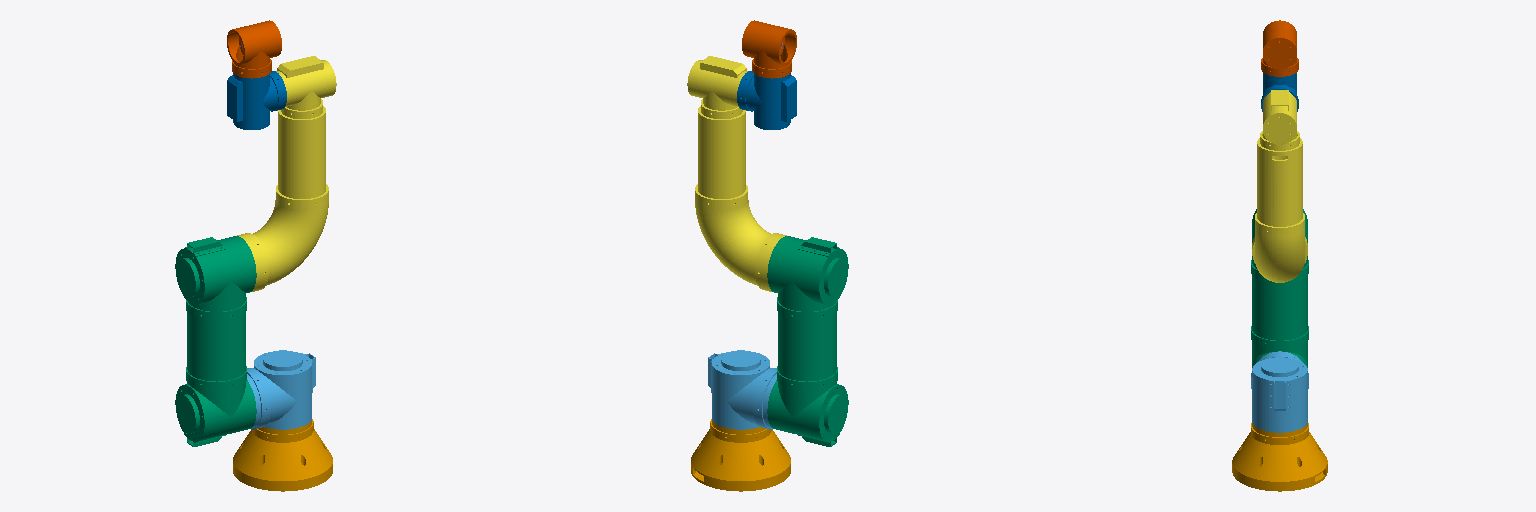
The robot description file, URDF, robot "Arm":
<?xml version='1.0' encoding='utf-8'?>
<robot name="Arm">
    <link name="Base_Joint">
        <inertial>
            <origin xyz="-0.0003310449128054492 -0.0003765223630645357 0.02921561322874342" rpy="0.0 0.0 0.0" />
            <mass value="3.7912246321328436" />
            <inertia ixx="0.016718197729505356" iyy="0.016773295996113366" izz="0.015482147635597354" ixy="6.13173006759159e-05" iyz="-5.455400244430662e-05" ixz="-8.481328123311252e-06" />
        </inertial>
        <visual name="Base_Joint_visual">
            <origin xyz="0.0 0.0 0.0" rpy="0.0 0.0 0.0" />
            <geometry>
                <mesh filename="meshes/Base_Joint.stl" scale="0.001 0.001 0.001" />
            </geometry>
        </visual>
        <collision name="Base_Joint_collision">
            <origin xyz="0.0 0.0 0.0" rpy="0.0 0.0 0.0" />
            <geometry>
                <mesh filename="meshes/Base_Joint.stl" scale="0.001 0.001 0.001" />
            </geometry>
        </collision>
    </link>
    <link name="Joint_1">
        <inertial>
            <origin xyz="-0.019370483087286103 2.0092341870242748e-09 -0.011769686194449172" rpy="0.0 -0.0 0.0" />
            <mass value="4.871605999709224" />
            <inertia ixx="0.007494196559477778" iyy="0.015588399369424633" izz="0.01573505373957174" ixy="4.70430484746284e-10" iyz="2.1070304575512857e-08" ixz="-0.00209039905770324" />
        </inertial>
        <visual name="Joint_1_visual">
            <origin xyz="1.8135215551495786e-16 -3.114430069089761e-18 -0.020600000000000344" rpy="-1.2246467991473535e-16 -1.5707963267948966 0" />
            <geometry>
                <mesh filename="meshes/Joint_1.stl" scale="0.001 0.001 0.001" />
            </geometry>
        </visual>
        <collision name="Joint_1_collision">
            <origin xyz="1.8135215551495786e-16 -3.114430069089761e-18 -0.020600000000000344" rpy="-1.2246467991473535e-16 -1.5707963267948966 0" />
            <geometry>
                <mesh filename="meshes/Joint_1.stl" scale="0.001 0.001 0.001" />
            </geometry>
        </collision>
    </link>
    <link name="Joint_2">
        <inertial>
            <origin xyz="0.010537536455476974 2.720572263632458e-10 0.13499998658848616" rpy="0.0 -0.0 0.0" />
            <mass value="9.284439575553945" />
            <inertia ixx="0.16097095897633706" iyy="0.16045670355679564" izz="0.015982867468748385" ixy="1.0369654867973318e-09" iyz="6.6249550612886284e-09" ixz="-2.3443206000426166e-09" />
        </inertial>
        <visual name="Joint_2_visual">
            <origin xyz="0.020499999999999137 8.101913789418598e-17 -3.375077994860476e-16" rpy="-3.141592653589793 4.16333634234497e-17 3.141592653589793" />
            <geometry>
                <mesh filename="meshes/Joint_2.stl" scale="0.001 0.001 0.001" />
            </geometry>
        </visual>
        <collision name="Joint_2_collision">
            <origin xyz="0.020499999999999137 8.101913789418598e-17 -3.375077994860476e-16" rpy="-3.141592653589793 4.16333634234497e-17 3.141592653589793" />
            <geometry>
                <mesh filename="meshes/Joint_2.stl" scale="0.001 0.001 0.001" />
            </geometry>
        </collision>
    </link>
    <link name="Joint_3">
        <inertial>
            <origin xyz="0.15442154453527984 -6.253155530411521e-08 0.15540372485759635" rpy="3.0385816786431356e-64 -0.0 0.0" />
            <mass value="6.934631122481834" />
            <inertia ixx="0.029728037669338132" iyy="0.14670435561028405" izz="0.12713688200449358" ixy="6.774462395267321e-09" iyz="2.0078632407245e-08" ixz="-0.03492075589757402" />
        </inertial>
        <visual name="Joint_3_visual">
            <origin xyz="-3.552713678800501e-16 -6.863216838266077e-17 -0.008200000000001992" rpy="3.141592653589793 1.5707963267948961 0" />
            <geometry>
                <mesh filename="meshes/Joint_3.stl" scale="0.001 0.001 0.001" />
            </geometry>
        </visual>
        <collision name="Joint_3_collision">
            <origin xyz="-3.552713678800501e-16 -6.863216838266077e-17 -0.008200000000001992" rpy="3.141592653589793 1.5707963267948961 0" />
            <geometry>
                <mesh filename="meshes/Joint_3.stl" scale="0.001 0.001 0.001" />
            </geometry>
        </collision>
    </link>
    <link name="Joint_4">
        <inertial>
            <origin xyz="-0.009960372227295693 -3.640367212779921e-08 0.0806268061978858" rpy="6.0771633572862685e-64 -0.0 0.0" />
            <mass value="2.218185155323223" />
            <inertia ixx="0.004980923698500449" iyy="0.005739371341262567" izz="0.0022415081771851586" ixy="-3.431824743601439e-10" iyz="-1.448982043706971e-09" ixz="0.0004792498057122885" />
        </inertial>
        <visual name="Joint_4_visual">
            <origin xyz="-0.7555 2.0953285269679403e-16 0.03600000000000129" rpy="1.224646799147345e-16 1.5707963267948961 0" />
            <geometry>
                <mesh filename="meshes/Joint_4.stl" scale="0.001 0.001 0.001" />
            </geometry>
        </visual>
        <collision name="Joint_4_collision">
            <origin xyz="-0.7555 2.0953285269679403e-16 0.03600000000000129" rpy="1.224646799147345e-16 1.5707963267948961 0" />
            <geometry>
                <mesh filename="meshes/Joint_4.stl" scale="0.001 0.001 0.001" />
            </geometry>
        </collision>
    </link>
    <link name="Joint_5">
        <inertial>
            <origin xyz="0.00979824184275059 1.2300669529823857e-06 -0.07674757335672397" rpy="0.0 -6.842277657836021e-49 2.115572867540339e-49" />
            <mass value="1.9556605864311027" />
            <inertia ixx="0.004458540128476685" iyy="0.004604512913203074" izz="0.0014133128346417983" ixy="2.3673460944059967e-08" iyz="-2.1275621312016e-08" ixz="0.0004887708448359525" />
        </inertial>
        <visual name="Joint_5_visual">
            <origin xyz="-2.815525590449397e-15 -2.2958546744933583e-16 0.05200000000000131" rpy="3.1415926535897647 9.574587059051675e-17 -1.5707963267948957" />
            <geometry>
                <mesh filename="meshes/Joint_5.stl" scale="0.001 0.001 0.001" />
            </geometry>
        </visual>
        <collision name="Joint_5_collision">
            <origin xyz="-2.815525590449397e-15 -2.2958546744933583e-16 0.05200000000000131" rpy="3.1415926535897647 9.574587059051675e-17 -1.5707963267948957" />
            <geometry>
                <mesh filename="meshes/Joint_5.stl" scale="0.001 0.001 0.001" />
            </geometry>
        </collision>
    </link>
    <link name="Joint_6">
        <inertial>
            <origin xyz="-0.013463555247715062 -2.1316282072803005e-15 -2.7730910080955826e-15" rpy="0.0 -2.062701013372598e-47 0.0" />
            <mass value="0.22698446745157766" />
            <inertia ixx="3.880949332754624e-05" iyy="3.31813067655076e-05" izz="3.3181306765550644e-05" ixy="1.7347234759761935e-18" iyz="-3.3806524756398537e-20" ixz="-5.437881366399838e-18" />
        </inertial>
        <visual name="Joint_6_visual">
            <origin xyz="0.025000000000003252 -6.252776074688882e-15 -2.309263891211763e-16" rpy="-1.0831511792289065e-13 -1.57079632679476 0" />
            <geometry>
                <mesh filename="meshes/Joint_6.stl" scale="0.001 0.001 0.001" />
            </geometry>
        </visual>
        <collision name="Joint_6_collision">
            <origin xyz="0.025000000000003252 -6.252776074688882e-15 -2.309263891211763e-16" rpy="-1.0831511792289065e-13 -1.57079632679476 0" />
            <geometry>
                <mesh filename="meshes/Joint_6.stl" scale="0.001 0.001 0.001" />
            </geometry>
        </collision>
    </link>
    <joint name="Base_Joint_Joint1" type="continuous">
        <origin xyz="-2.1371793224034304e-17 5.906294567565221e-81 0.1702" rpy="4.41880098870239e-32 -0.0 -2.76359335206515e-64" />
        <parent link="Base_Joint" />
        <child link="Joint_1" />
        <axis xyz="0.0 4.41880098870239e-32 1.0" />
    </joint>
    <joint name="Joint_1_Joint2" type="continuous">
        <origin xyz="-0.1702 -1.4493667242943834e-33 -0.032799999999999996" rpy="1.2246467991473493e-16 -4.930380657631324e-32 2.1786370924620435e-63" />
        <parent link="Joint_1" />
        <child link="Joint_2" />
        <axis xyz="-1.0 0.0 1.80411241501588e-16" />
    </joint>
    <joint name="Joint_2_Joint3" type="continuous">
        <origin xyz="0.028700000000000028 3.3065463576978445e-17 0.27" rpy="3.141592653589793 -1.5707963267948963 0" />
        <parent link="Joint_2" />
        <child link="Joint_3" />
        <axis xyz="2.465190328815662e-32 2.449293598294708e-16 -1.0" />
    </joint>
    <joint name="Joint_3_Joint4" type="continuous">
        <origin xyz="0.32800000000000007 -4.3719890729560567e-17 0.17850000000000002" rpy="-3.1415926535897927 5.473822126268817e-48 -2.465190328815662e-32" />
        <parent link="Joint_3" />
        <child link="Joint_4" />
        <axis xyz="-2.465190328815662e-32 -2.449293598294709e-16 -1.0" />
    </joint>
    <joint name="Joint_4_Joint5" type="continuous">
        <origin xyz="0.0029999999999999714 2.4860330022691298e-17 0.1015" rpy="-3.1415926535897927 1.5707963267948963 0" />
        <parent link="Joint_4" />
        <child link="Joint_5" />
        <axis xyz="6.162975822039155e-33 3.67394039744207e-16 1.0" />
    </joint>
    <joint name="Joint_5_Revolute-10" type="continuous">
        <origin xyz="0.015000000000002888 -3.7290495034036995e-17 -0.10149999999999992" rpy="-1.57079632679476 1.0477058897466574e-31 2.722983357319059e-31" />
        <parent link="Joint_5" />
        <child link="Joint_6" />
        <axis xyz="1.0 9.860761315262744e-32 -2.4718775496072294e-14" />
    </joint>
</robot>

--- What the picture shows (computed from the rendered views, not written in the file) ---
The picture shows the robot from 3 angles, left to right: view 1: azimuth 30°, elevation 25°; view 2: azimuth 150°, elevation 25°; view 3: azimuth 270°, elevation 25°; orthographic projection.
Robot: Arm — 7 links, 6 joints (6 continuous); root link Base_Joint; default pose: all joints at 0.
Links seen in each view (by area): view 1: Joint_2, Joint_3, Base_Joint, Joint_1, Joint_4, Joint_5; view 2: Joint_2, Joint_3, Base_Joint, Joint_1, Joint_4, Joint_5; view 3: Joint_3, Base_Joint, Joint_2, Joint_1, Joint_5, Joint_4.
Boxes of the visible links, x1,y1,x2,y2 form: Joint_2: (175,236,256,446); Joint_3: (237,56,336,291); Base_Joint: (233,419,332,491); Joint_1: (247,350,315,429); Joint_4: (227,71,286,129); Joint_5: (227,20,281,78); Joint_2: (767,236,848,446); Joint_3: (687,56,786,291); Base_Joint: (691,419,790,491); Joint_1: (708,350,776,429); Joint_4: (737,71,796,129); Joint_5: (742,20,796,78); Joint_3: (1252,90,1307,282); Base_Joint: (1232,423,1327,491); Joint_2: (1251,209,1308,367); Joint_1: (1251,351,1308,432); Joint_5: (1261,20,1298,76); Joint_4: (1261,73,1298,111).
Size in the robot's own frame: 0.2932 by 0.18 by 0.8929 metres.
7 mesh visuals loaded from 7 distinct referenced files (7 binary STL).
